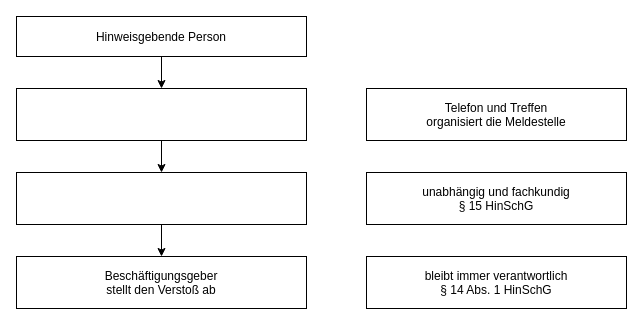
Some shapes in this 643 by 325 pixel diagram are drawn without their labels. The shapes that lost their labels are listed below. From the top down, each one's box as (x1, y1, x2, y2) in pixels, then its label:
(16, 88, 306, 140): Hinweisgebersystem Kanal in Textform, zählt Fristen
(16, 172, 306, 224): Interne Meldestelle eigene Beschäftigte oder Ombudsperson
